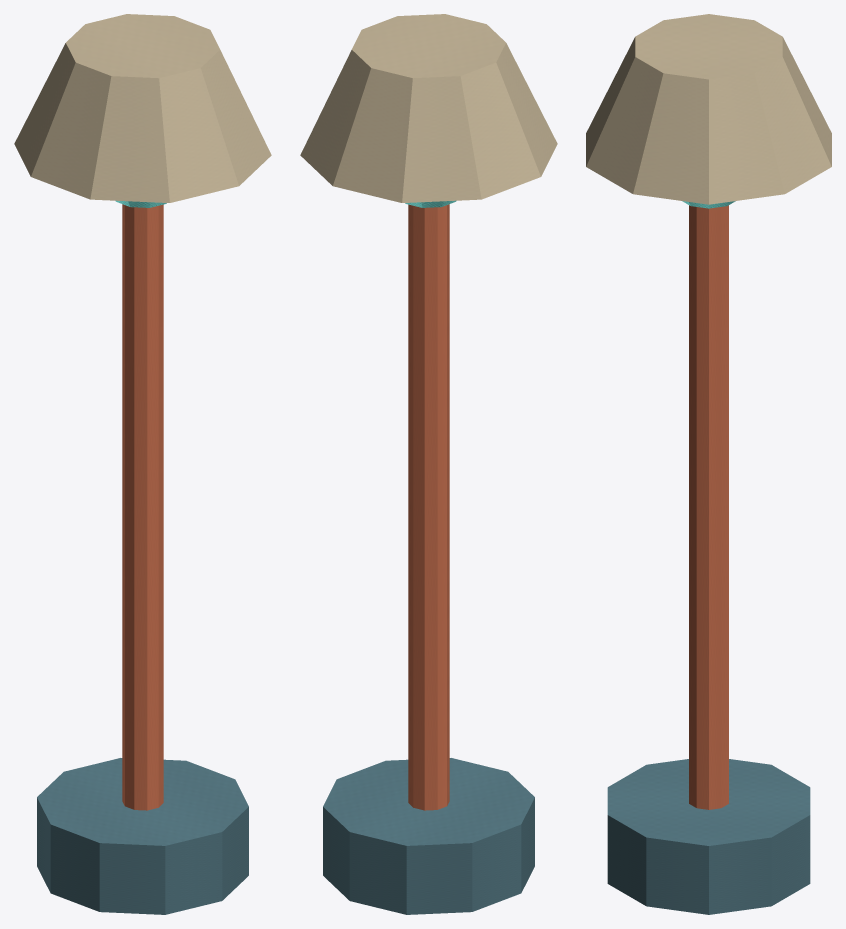
Rendered from atlas100-sailpunk-util01.glb.
3 views of the same model, side by side, from view 1: azimuth 30°, elevation 25°; view 2: azimuth 150°, elevation 25°; view 3: azimuth 270°, elevation 25° (orthographic).
Visible parts, largest first — view 1: atlas100-sailpunk-util01:part-002, atlas100-sailpunk-util01:part-000, atlas100-sailpunk-util01:part-001; view 2: atlas100-sailpunk-util01:part-002, atlas100-sailpunk-util01:part-000, atlas100-sailpunk-util01:part-001; view 3: atlas100-sailpunk-util01:part-002, atlas100-sailpunk-util01:part-000, atlas100-sailpunk-util01:part-001.
Boxes of the visible parts, <box> form: atlas100-sailpunk-util01:part-002: <box>14,14,271,202</box>; atlas100-sailpunk-util01:part-000: <box>37,758,248,914</box>; atlas100-sailpunk-util01:part-001: <box>122,204,163,810</box>; atlas100-sailpunk-util01:part-002: <box>300,14,557,202</box>; atlas100-sailpunk-util01:part-000: <box>323,758,534,914</box>; atlas100-sailpunk-util01:part-001: <box>408,204,449,810</box>; atlas100-sailpunk-util01:part-002: <box>586,14,831,204</box>; atlas100-sailpunk-util01:part-000: <box>607,759,810,914</box>; atlas100-sailpunk-util01:part-001: <box>689,205,728,809</box>.
Bounding box in the file's own units: 0.7113 × 2.5 × 0.6765.
Materials: 4 (4 with a texture image).
